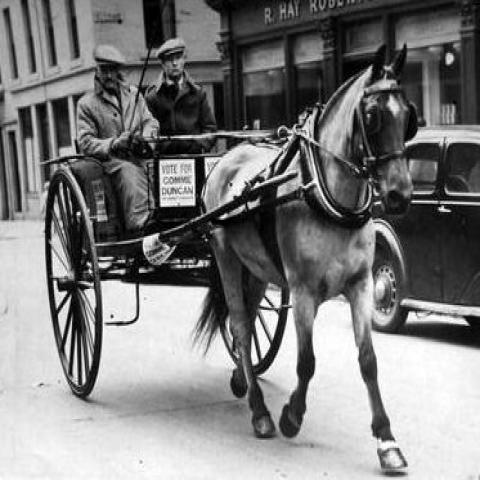car: (369, 124, 479, 338)
